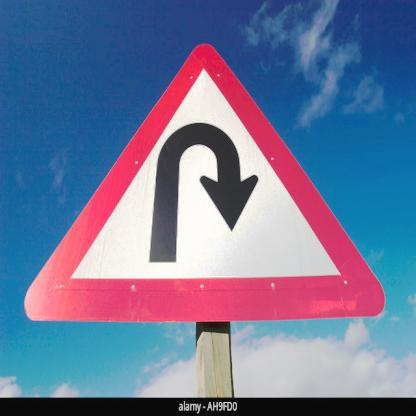U-turn: (22, 36, 391, 329)
